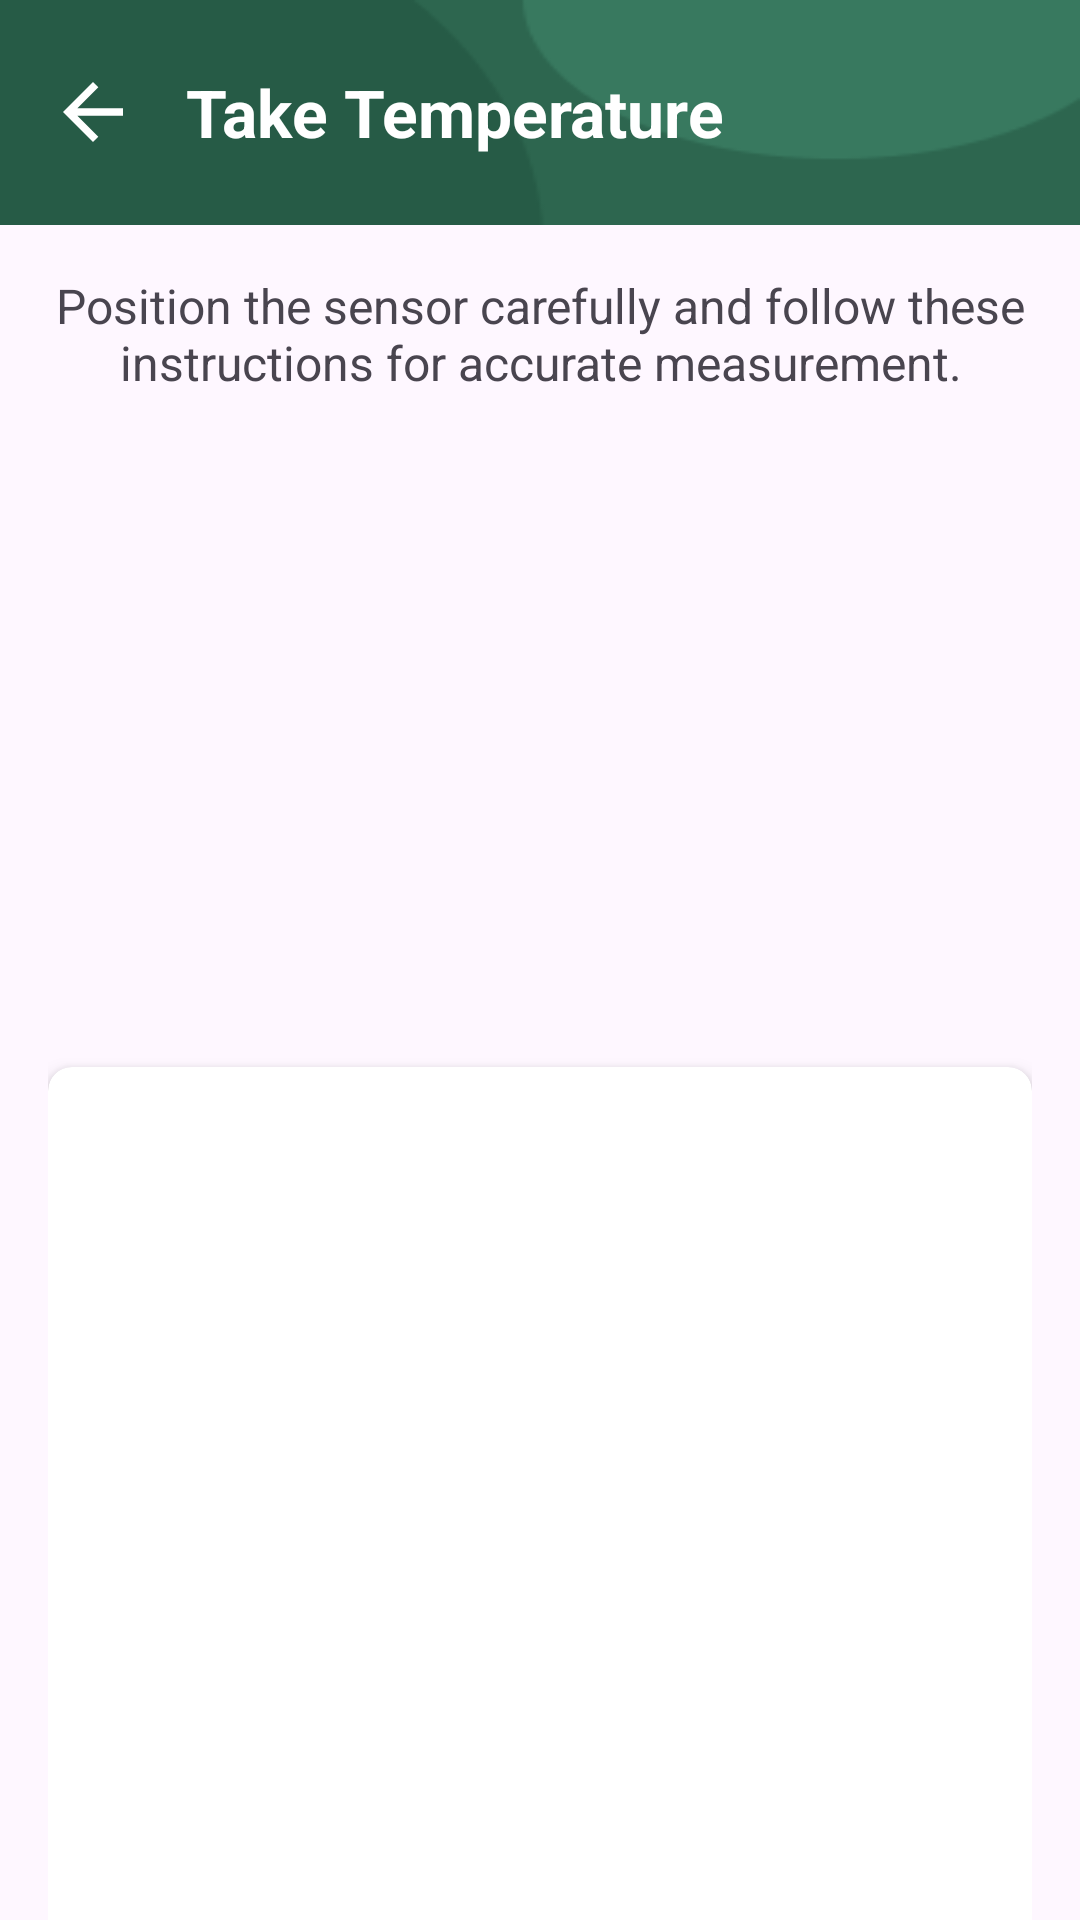

Point at icon controls on the screen. Image size 1080w x 1920h, points as [x,y].
Back: [93,112]
